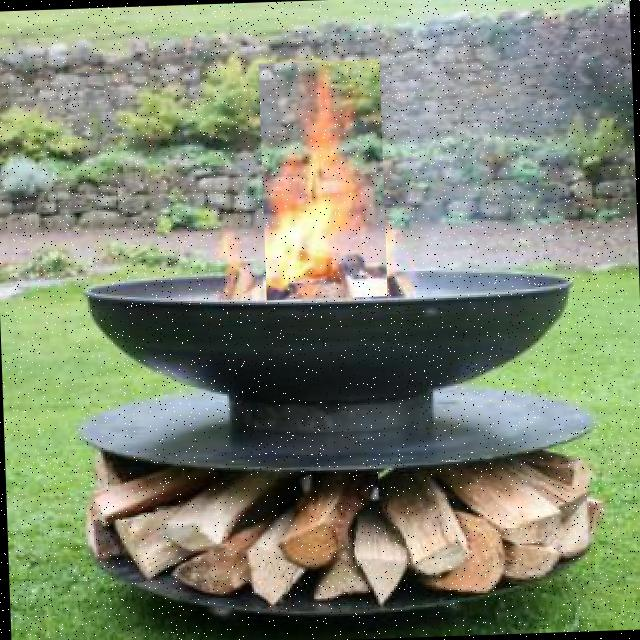fire: (258, 59, 387, 300)
